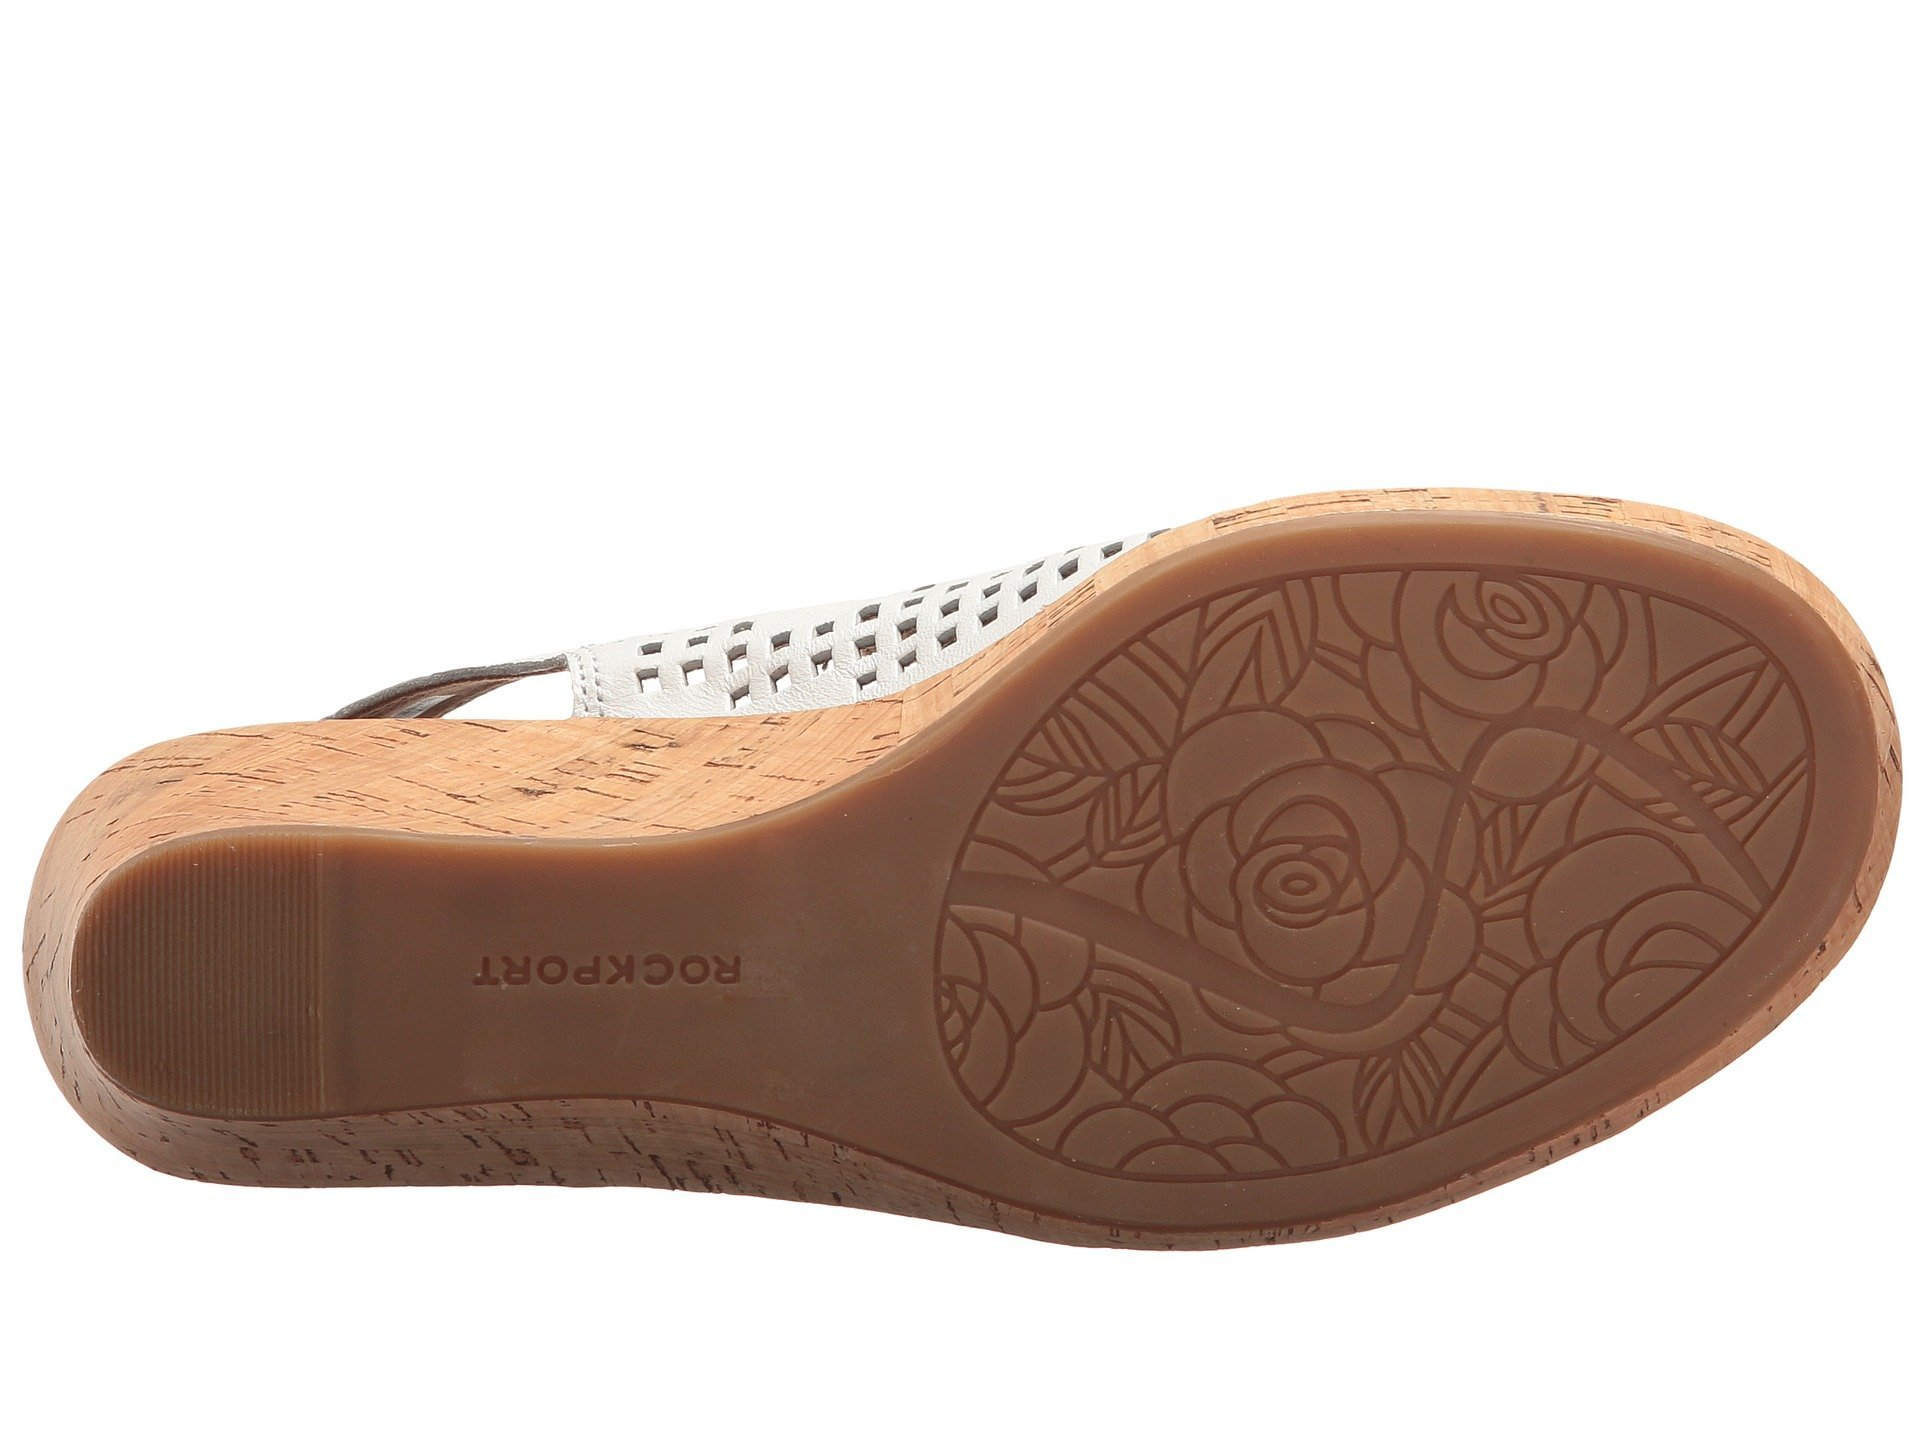chevron: (1158, 744, 1497, 1068), (1604, 610, 1799, 830), (1178, 576, 1371, 749), (977, 709, 1160, 883)
circle: (1158, 744, 1497, 1068)
line: (1158, 744, 1497, 1068), (1604, 610, 1799, 830), (1178, 576, 1371, 749), (110, 886, 292, 1069), (977, 709, 1160, 883)
text: (460, 920, 759, 1030)
